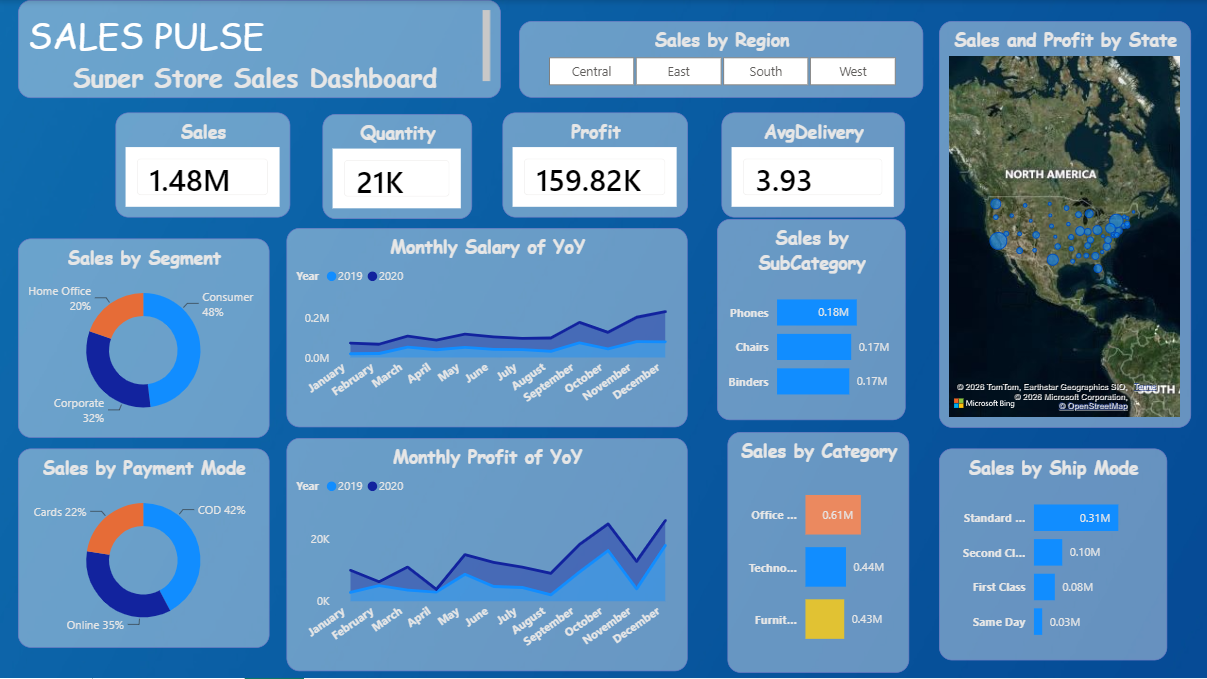

What the dashboard file says about the page in this screenshot:
{"tool":"powerbi","page":{"name":"Dashboard","canvas":[1280,720],"ordinal":0},"visuals":[{"type":"clusteredBarChart","title":"Sales by Category","fields":{"Category":["SuperStore_Sales_Dataset.Category"],"Y":["Sum(SuperStore_Sales_Dataset.Sales)"]},"box":[771,457.3,192.8,255.1],"z":0},{"type":"clusteredBarChart","title":"Sales by SubCategory","fields":{"Category":["SuperStore_Sales_Dataset.Sub-Category"],"Y":["Sum(SuperStore_Sales_Dataset.Sales)"]},"box":[759.7,232.4,200.3,213.5],"z":1000},{"type":"clusteredBarChart","title":"Sales by Ship Mode","fields":{"Category":["SuperStore_Sales_Dataset.Ship Mode"],"Y":["Sum(SuperStore_Sales_Dataset.Sales)"]},"box":[995.9,476.2,241.9,224.9],"z":2000},{"type":"stackedAreaChart","title":" Monthly Salary of YoY","fields":{"Y":["Sum(SuperStore_Sales_Dataset.Sales)"],"Category":["SuperStore_Sales_Dataset.Order Date.Variation.Date Hierarchy.Month","SuperStore_Sales_Dataset.Order Date.Variation.Date Hierarchy.Day"],"Series":["SuperStore_Sales_Dataset.Order Date.Variation.Date Hierarchy.Year"]},"box":[304.3,241.9,425.2,211.7],"z":3000},{"type":"stackedAreaChart","title":" Monthly Profit of YoY","fields":{"Category":["SuperStore_Sales_Dataset.Order Date.Variation.Date Hierarchy.Month","SuperStore_Sales_Dataset.Order Date.Variation.Date Hierarchy.Day"],"Series":["SuperStore_Sales_Dataset.Order Date.Variation.Date Hierarchy.Year"],"Y":["Sum(SuperStore_Sales_Dataset.Profit)"]},"box":[304.3,464.9,425.2,247.6],"z":4000},{"type":"map","title":"Sales and Profit by State","fields":{"Category":["SuperStore_Sales_Dataset.State"],"Size":["Sum(SuperStore_Sales_Dataset.Sales)"]},"box":[995.7,22.3,267.2,431.1],"z":5000},{"type":"donutChart","title":"Sales by Segment","fields":{"Category":["SuperStore_Sales_Dataset.Segment"],"Y":["Sum(SuperStore_Sales_Dataset.Sales)"]},"box":[18.9,253.2,266.5,211.7],"z":6000},{"type":"donutChart","title":"Sales by Payment Mode","fields":{"Category":["SuperStore_Sales_Dataset.Payment Mode"],"Y":["Sum(SuperStore_Sales_Dataset.Sales)"]},"box":[18.9,476.2,266.5,211.7],"z":7000},{"type":"slicer","title":"Sales by Region","fields":{"Values":["SuperStore_Sales_Dataset.Region"]},"box":[549.9,22.7,429,81.3],"z":8000},{"type":"textbox","box":[18.9,0,512.1,103.9],"z":9000},{"type":"cardVisual","title":"Sales","fields":{"Data":["Sum(SuperStore_Sales_Dataset.Sales)"]},"box":[122.8,119.1,185.2,111.5],"z":10000},{"type":"cardVisual","title":"Quantity","fields":{"Data":["Sum(SuperStore_Sales_Dataset.Quantity)"]},"box":[342,120.9,158.7,111.5],"z":11000},{"type":"cardVisual","title":"Profit","fields":{"Data":["Sum(SuperStore_Sales_Dataset.Profit)"]},"box":[532.9,119.1,196.5,111.5],"z":12000},{"type":"cardVisual","title":"AvgDelivery","fields":{"Data":["Avg(SuperStore_Sales_Dataset.AvgDelivery)"]},"box":[765.4,119.1,194.6,111.5],"z":13000}]}

Visuals, with their boxes in screenshot pixels (x1, y1, x2, y2), scaled from the page's 1280x720 canvas onto the 1207x679 screenshot:
"Sales by Category" clusteredBarChart: (x1=727, y1=431, x2=909, y2=672)
"Sales by SubCategory" clusteredBarChart: (x1=716, y1=219, x2=905, y2=421)
"Sales by Ship Mode" clusteredBarChart: (x1=939, y1=449, x2=1167, y2=661)
" Monthly Salary of YoY" stackedAreaChart: (x1=287, y1=228, x2=688, y2=428)
" Monthly Profit of YoY" stackedAreaChart: (x1=287, y1=438, x2=688, y2=672)
"Sales and Profit by State" map: (x1=939, y1=21, x2=1191, y2=428)
"Sales by Segment" donutChart: (x1=18, y1=239, x2=269, y2=438)
"Sales by Payment Mode" donutChart: (x1=18, y1=449, x2=269, y2=649)
"Sales by Region" slicer: (x1=519, y1=21, x2=923, y2=98)
textbox: (x1=18, y1=0, x2=501, y2=98)
"Sales" cardVisual: (x1=116, y1=112, x2=290, y2=217)
"Quantity" cardVisual: (x1=322, y1=114, x2=472, y2=219)
"Profit" cardVisual: (x1=503, y1=112, x2=688, y2=217)
"AvgDelivery" cardVisual: (x1=722, y1=112, x2=905, y2=217)
